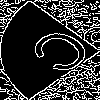C: (24, 24, 100, 84)
